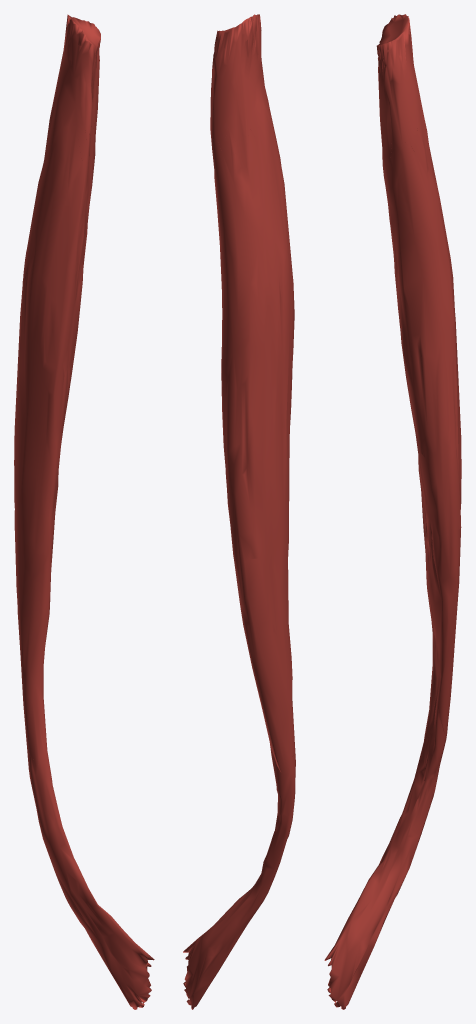
File: musculos-semitendinosus-muscle-l.glb
The picture shows the model from 3 angles, left to right: view 1: azimuth 90°, elevation 25°; view 2: azimuth 210°, elevation 25°; view 3: azimuth 270°, elevation 25°; orthographic projection. The views are drawn at different scales.
Visible parts, largest first — view 1: Semitendinosus muscle.l; view 2: Semitendinosus muscle.l; view 3: Semitendinosus muscle.l.
Boxes of the visible parts, x1,y1,x2,y2 form: Semitendinosus muscle.l: (14, 14, 154, 1009); Semitendinosus muscle.l: (183, 14, 295, 1009); Semitendinosus muscle.l: (324, 14, 461, 1009).
Size of the model in its own units: 0.036 by 0.4597 by 0.0582.
